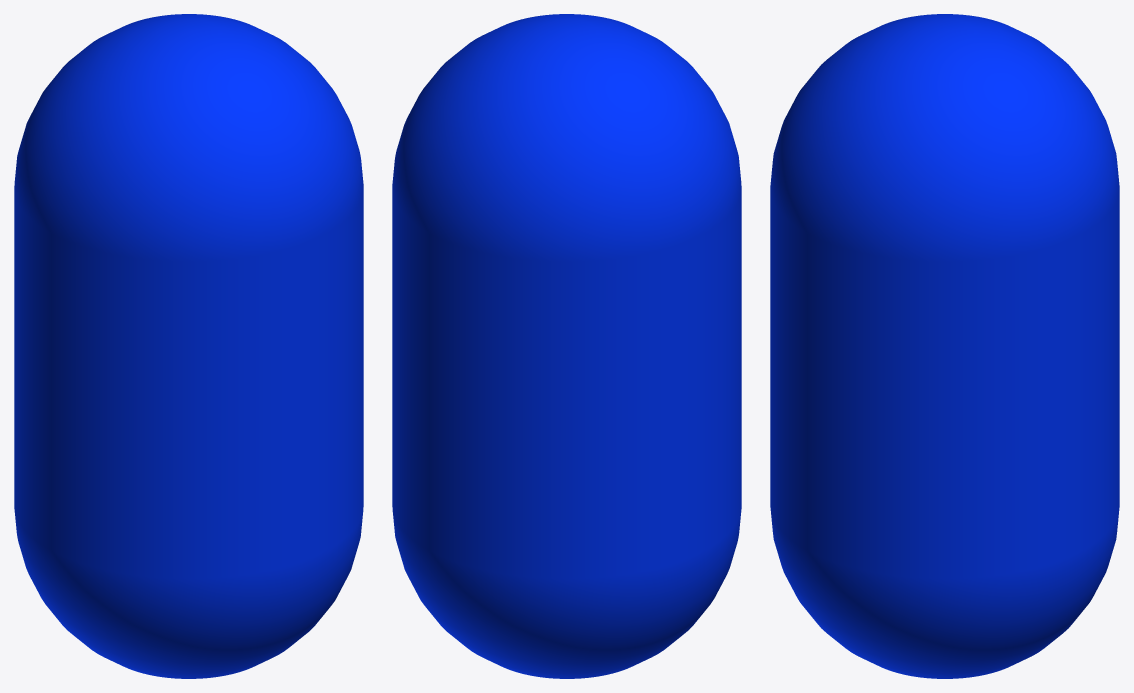
The model's file is block.glb.
3 views of the same model, side by side, from view 1: azimuth 30°, elevation 25°; view 2: azimuth 150°, elevation 25°; view 3: azimuth 270°, elevation 25° (orthographic).
Visible parts, largest first — view 1: point; view 2: point; view 3: point.
Boxes of the visible parts, x1=… form: point: x1=14, y1=14, x2=363, y2=678; point: x1=392, y1=14, x2=741, y2=678; point: x1=770, y1=14, x2=1119, y2=678.
Bounding box in the file's own units: 1 × 2 × 1.
